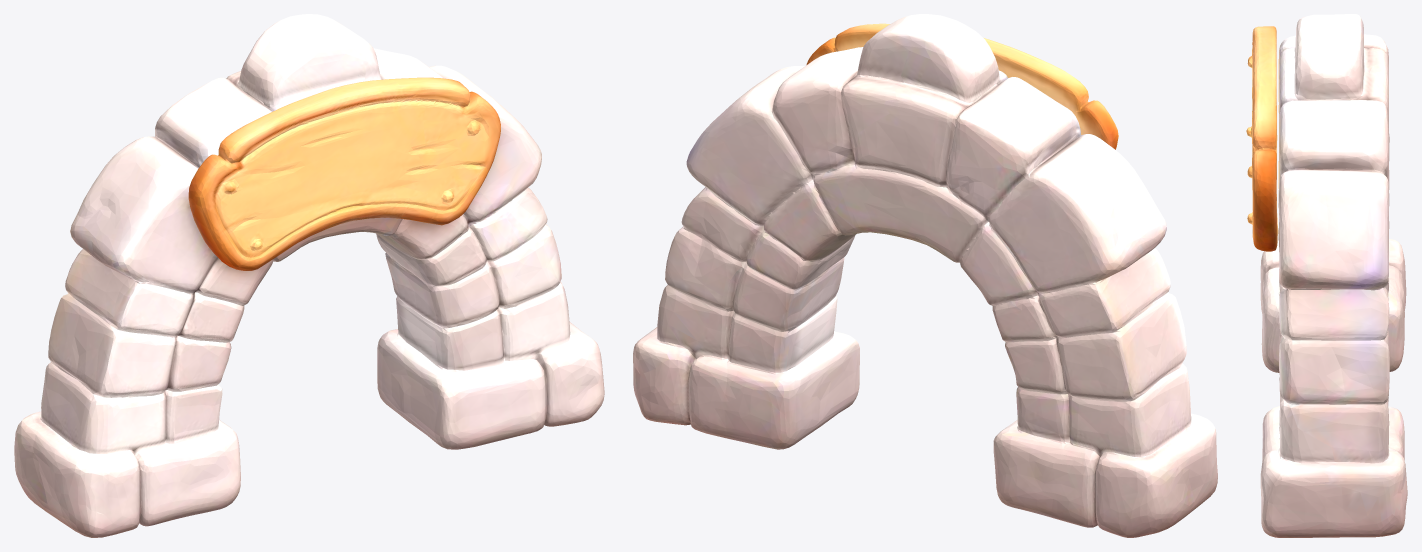
The model's file is arch.glb.
3 views of the same model, side by side, from view 1: azimuth 30°, elevation 25°; view 2: azimuth 150°, elevation 25°; view 3: azimuth 270°, elevation 25° (orthographic). The views are drawn at different scales.
Parts seen in each view (by area): view 1: tripo_mesh_c9a9dcbd-fe87-4063-90a9-d5d387a59b18; view 2: tripo_mesh_c9a9dcbd-fe87-4063-90a9-d5d387a59b18; view 3: tripo_mesh_c9a9dcbd-fe87-4063-90a9-d5d387a59b18.
Boxes of the visible parts, x1=… form: tripo_mesh_c9a9dcbd-fe87-4063-90a9-d5d387a59b18: x1=14, y1=14, x2=604, y2=537; tripo_mesh_c9a9dcbd-fe87-4063-90a9-d5d387a59b18: x1=633, y1=14, x2=1217, y2=537; tripo_mesh_c9a9dcbd-fe87-4063-90a9-d5d387a59b18: x1=1246, y1=14, x2=1407, y2=537.
Bounding box in the file's own units: 1.29 × 1 × 0.3623.
1 material, 1 textured.
